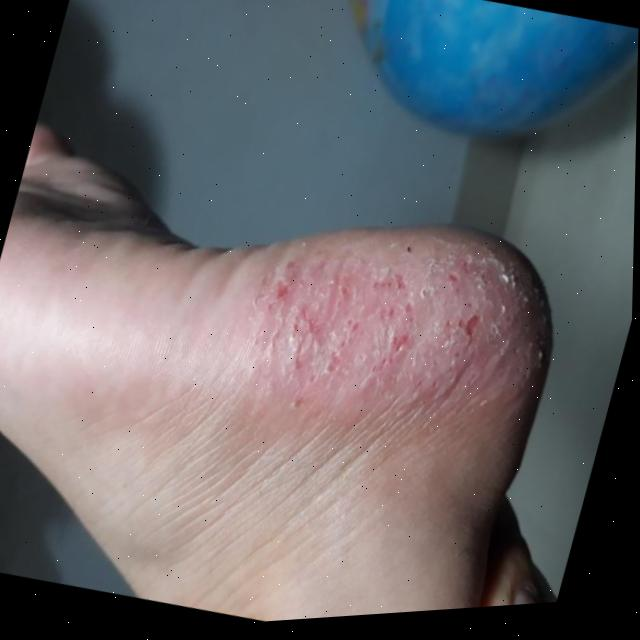Eczema: (237, 216, 531, 473)
